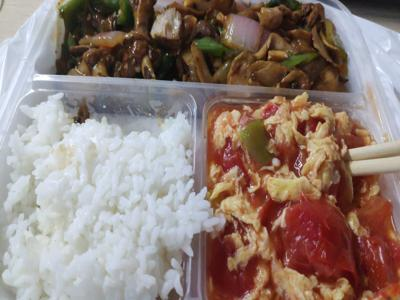jdxhs: (207, 98, 382, 293)
rice: (11, 91, 191, 300)
